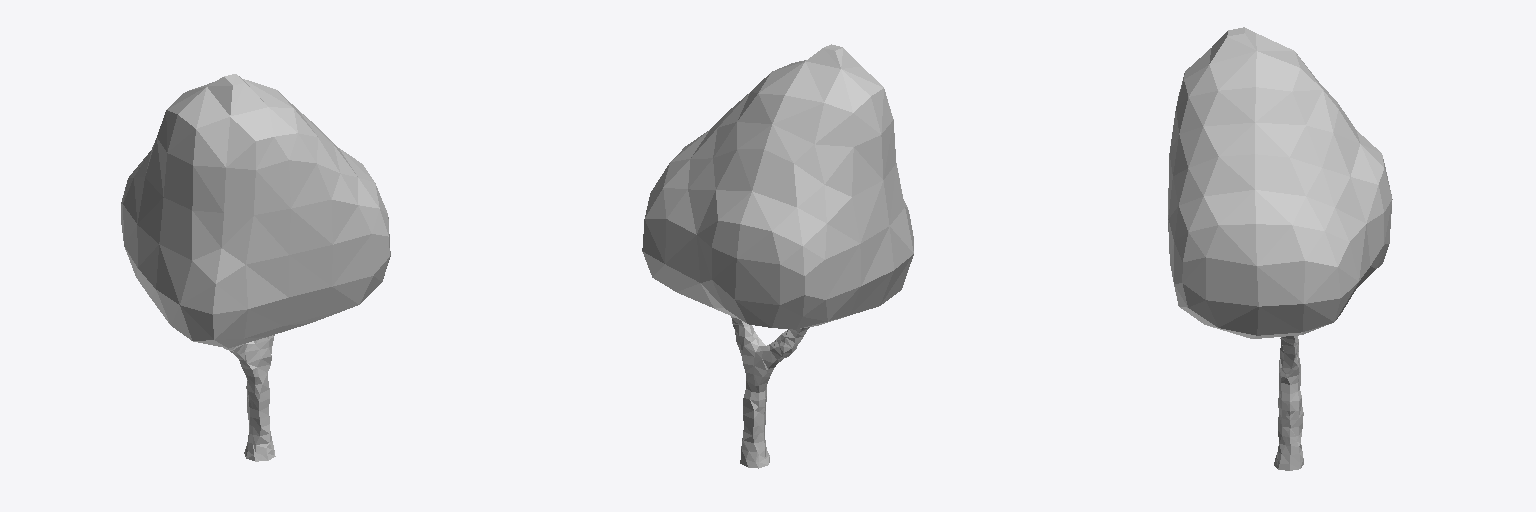
The model's file is tree4.obj.
The picture shows the model from 3 angles: view 1: azimuth 30°, elevation 25°; view 2: azimuth 150°, elevation 25°; view 3: azimuth 270°, elevation 25°; orthographic projection.
Parts seen in each view (by area): view 1: Tree4; view 2: Tree4; view 3: Tree4.
Part boxes in pixels (left/top/right/bottom): Tree4: left=121, top=74, right=390, bottom=461; Tree4: left=642, top=44, right=913, bottom=468; Tree4: left=1168, top=27, right=1392, bottom=470.
Size of the model in its own units: 5.81 by 10.03 by 5.